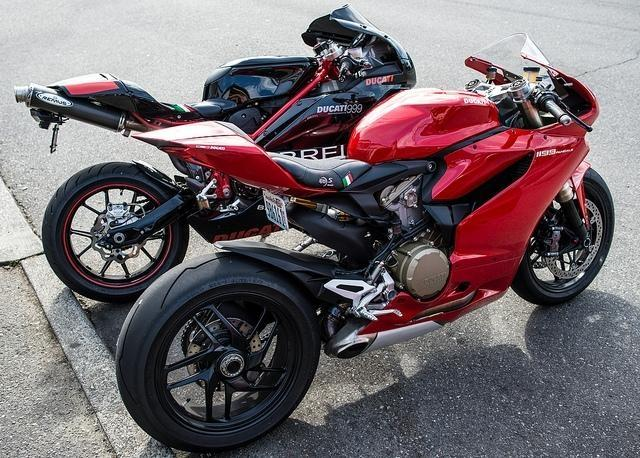motorcycle: (111, 30, 616, 455), (15, 5, 418, 298)
